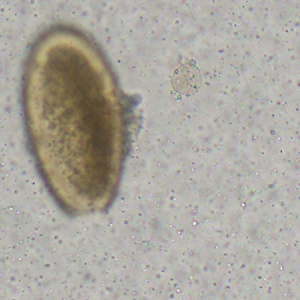Fasciola_hepatica_egg: (22, 22, 126, 220)
